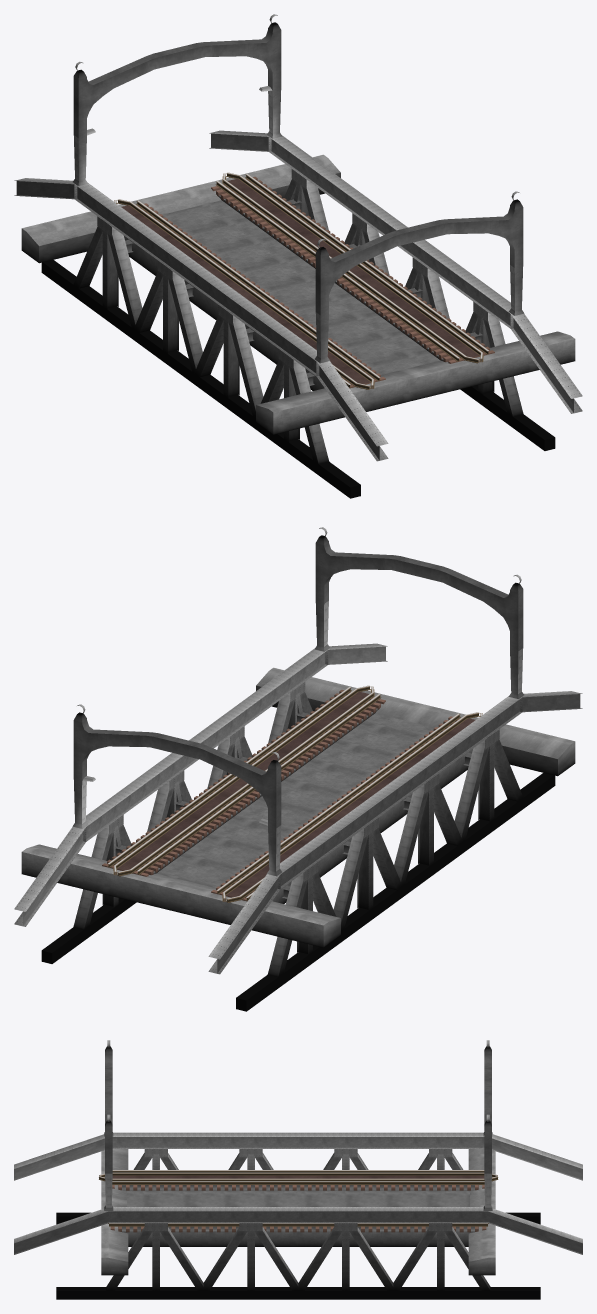
The model's file is TOB_ASAKUSA_BRIDGE50.glb.
3 views of the same model, one above another, from view 1: azimuth 30°, elevation 25°; view 2: azimuth 150°, elevation 25°; view 3: azimuth 270°, elevation 25° (orthographic). The views are drawn at different scales.
Visible parts, largest first — view 1: obj16, obj19, obj3; view 2: obj16, obj19, obj3; view 3: obj16, obj19, obj3.
Part boxes in pixels (box(x1,y1,x2,y2)): obj16: box(41, 14, 555, 498); obj19: box(256, 191, 582, 461); obj3: box(14, 130, 340, 263); obj16: box(41, 648, 555, 1011); obj19: box(256, 527, 582, 776); obj3: box(14, 826, 340, 974); obj16: box(56, 1040, 540, 1299); obj19: box(14, 1040, 128, 1275); obj3: box(468, 1134, 582, 1275).
Bounding box in the file's own units: 36 × 26.62 × 75.
Materials: 19 (16 with a texture image).
